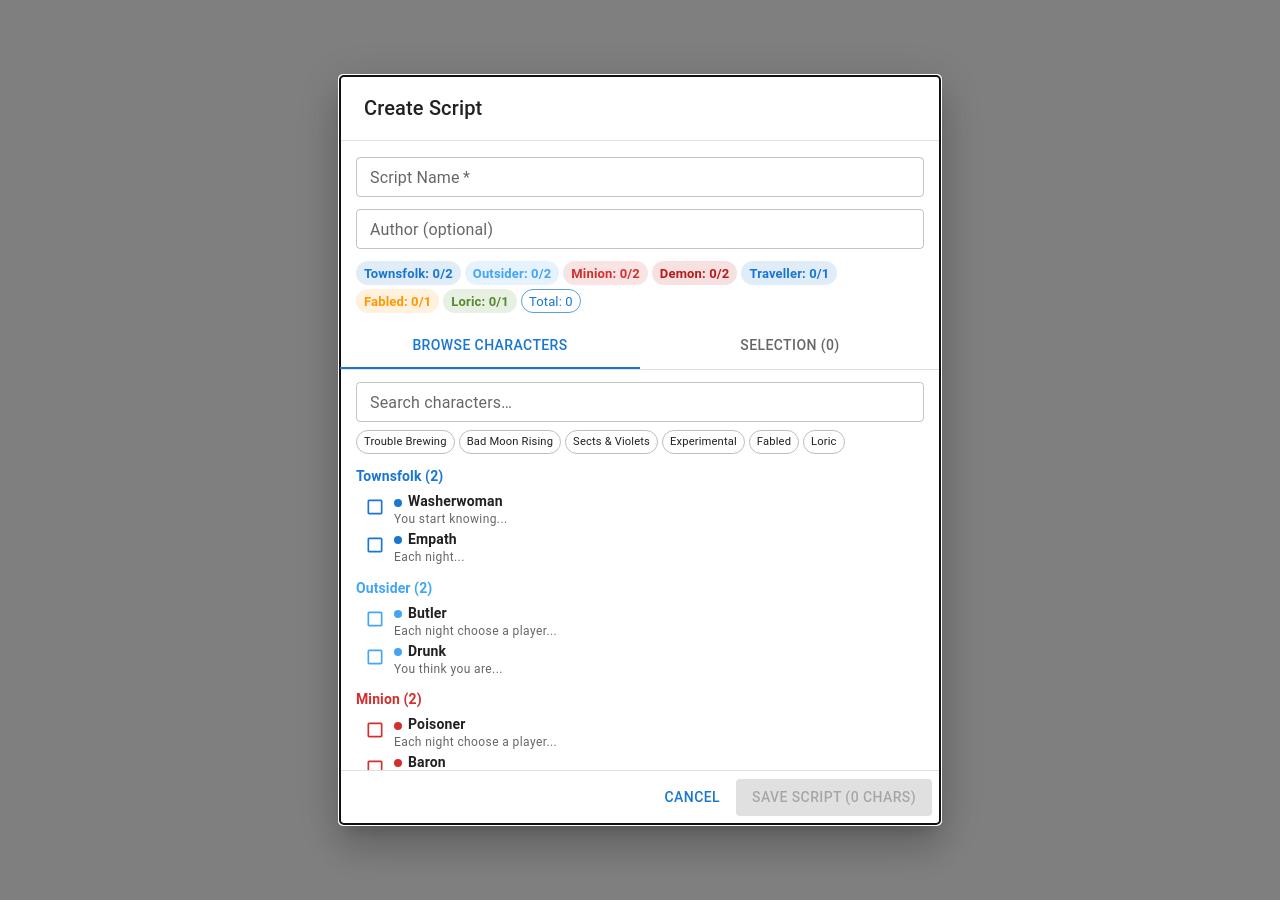
Test: ScriptBuilder › can toggle character selection via checkbox
Click the checkbox labelled "Washerwoman You start knowing..." at (436, 510), box [365,493,508,526]
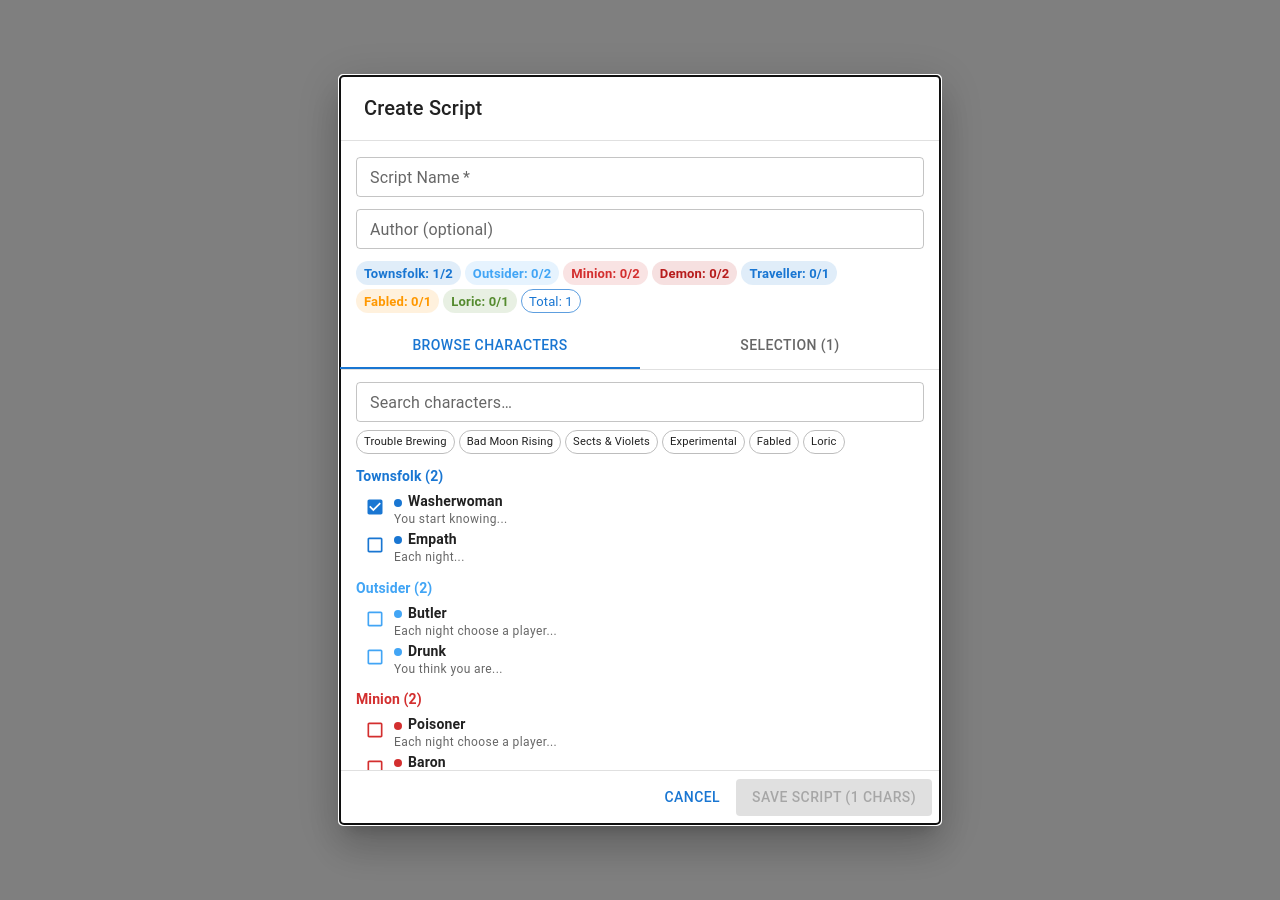
Expected: the text "Total: 1" is shown, [529,294,573,308]
